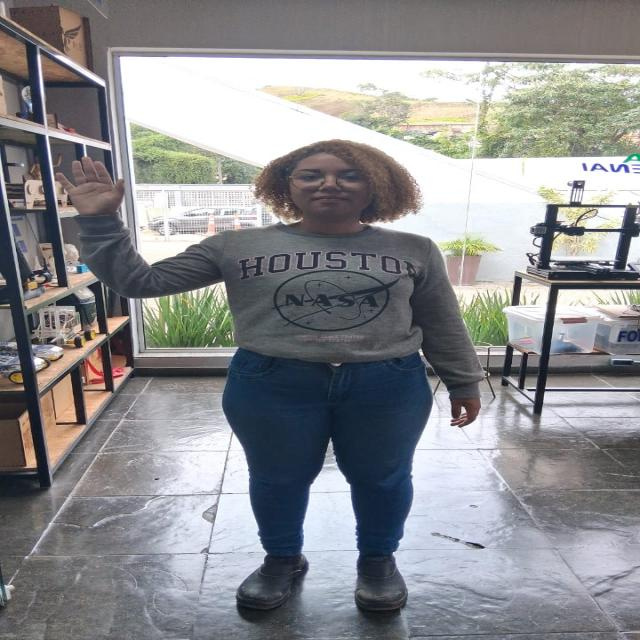BOTA: (349, 545, 421, 611), (242, 544, 308, 611)
SEM LUVA: (51, 156, 134, 219), (441, 390, 488, 434)
